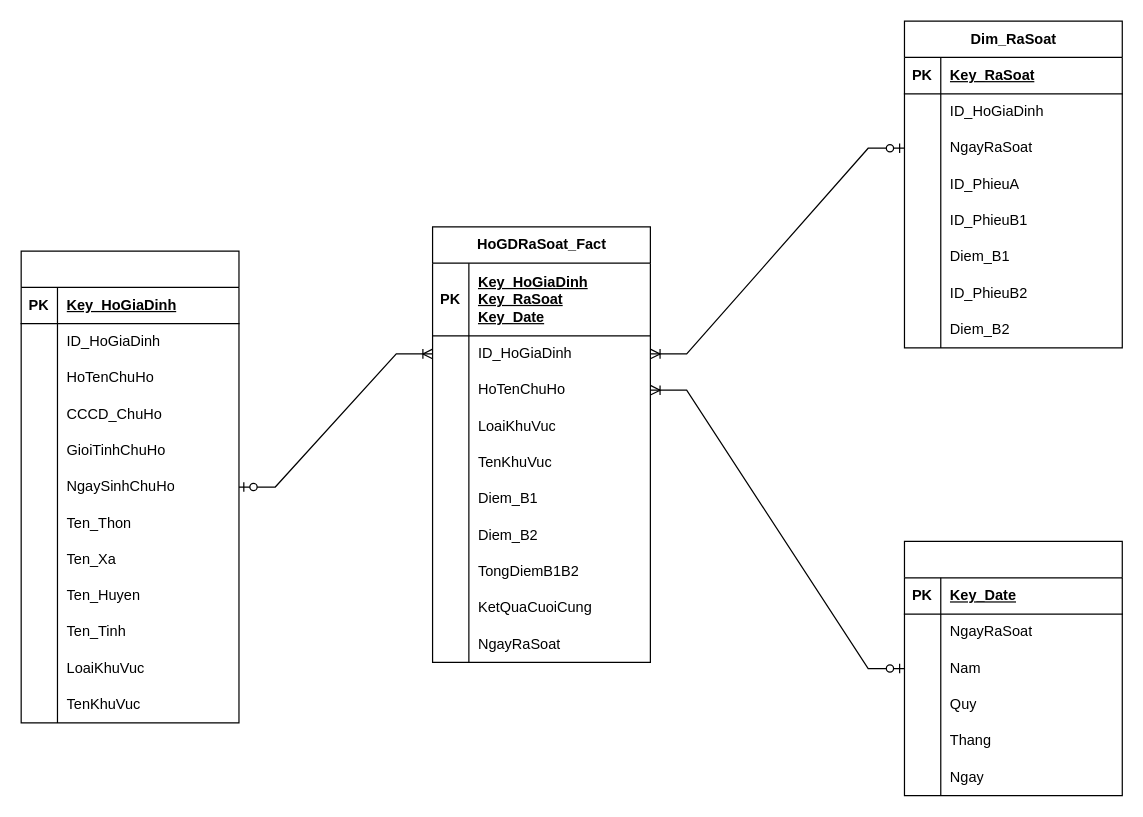
This 1143x817 diagram has some shape labels left out. Each missing label, with the box of its shape:
Dim_Date: (903, 540, 1122, 796)
Dim_HoGiaDinh: (20, 250, 239, 723)
